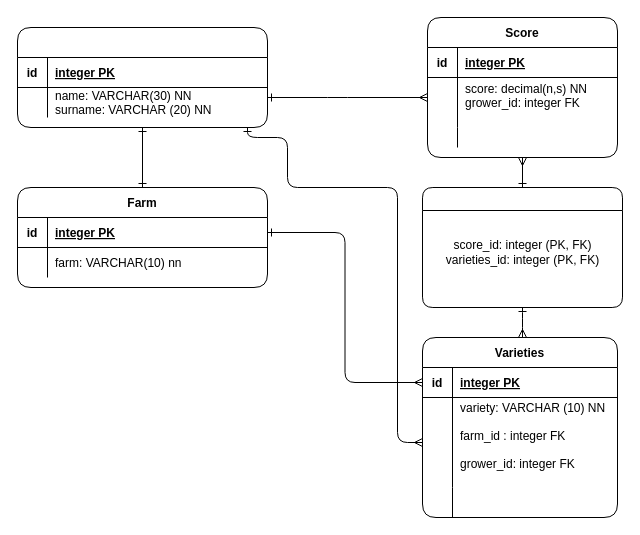
The diagram is 640 pixels wide and 535 high, and some of its shapes have lost their labels. The shapes that lost their labels are listed below. From the top down, each one's box as (x1, y1, x2, y2) in pixels, then its label:
(16, 26, 268, 128): Growers
(422, 186, 622, 308): score_varieties
